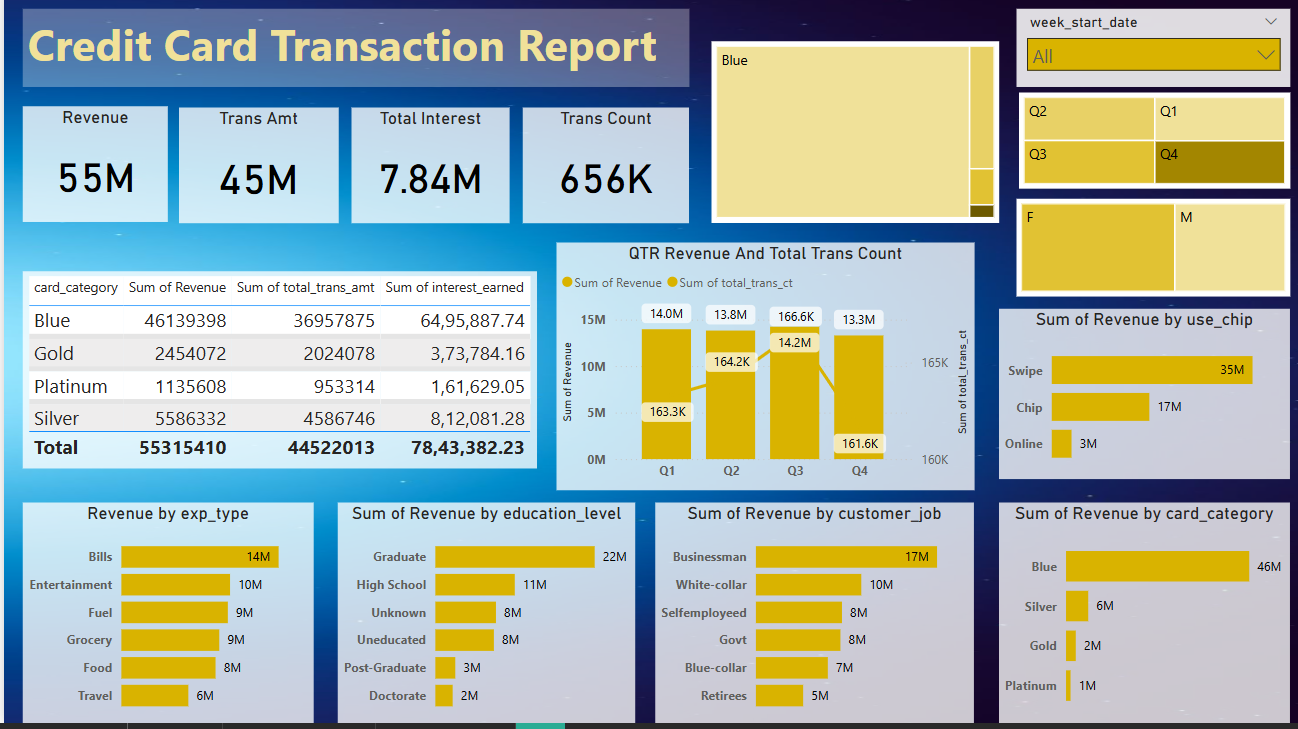

The dashboard page shown, as its layout file describes it:
{"tool":"powerbi","page":{"name":"CC_Transaction","canvas":[1280,720],"ordinal":1},"visuals":[{"type":"textbox","box":[17.8,17.8,654.5,76.8],"z":0},{"type":"lineStackedColumnComboChart","title":"QTR Revenue And Total Trans Count","fields":{"Category":["public cc_detail.qtr"],"Y":["Sum(public cc_detail.Revenue)"],"Y2":["Sum(public cc_detail.total_trans_ct)"]},"box":[542,248.4,410.3,242.9],"z":1000},{"type":"barChart","title":" Revenue by exp_type","fields":{"Category":["public cc_detail.exp_type"],"Y":["Sum(public cc_detail.Revenue)"]},"box":[17.8,503.6,285.4,216.8],"z":2000},{"type":"barChart","fields":{"Category":["public cust_detail.education_level"],"Y":["Sum(public cc_detail.Revenue)"]},"box":[328,503.6,292.3,216.8],"z":3000},{"type":"barChart","fields":{"Y":["Sum(public cc_detail.Revenue)"],"Category":["public cust_detail.customer_job"]},"box":[639.5,503.6,312.9,216.8],"z":4000},{"type":"barChart","fields":{"Category":["public cc_detail.card_category"],"Y":["Sum(public cc_detail.Revenue)"]},"box":[977,503.6,285.4,216.8],"z":5000},{"type":"barChart","fields":{"Category":["public cc_detail.use_chip"],"Y":["Sum(public cc_detail.Revenue)"]},"box":[977,312.9,285.4,167.4],"z":6000},{"type":"tableEx","fields":{"Values":["public cc_detail.card_category","Sum(public cc_detail.Revenue)","Sum(public cc_detail.total_trans_amt)","Sum(public cc_detail.interest_earned)"]},"box":[17.8,275.8,505,193.5],"z":7000},{"type":"card","title":"Revenue","fields":{"Values":["Sum(public cc_detail.Revenue)"]},"box":[17.8,113.9,142.7,113.9],"z":8000},{"type":"card","title":"Trans Amt","fields":{"Values":["Sum(public cc_detail.total_trans_amt)"]},"box":[171.5,115.3,156.4,113.9],"z":9000},{"type":"card","title":"Total Interest","fields":{"Values":["Sum(public cc_detail.interest_earned)"]},"box":[341.7,115.3,155.1,113.9],"z":10000},{"type":"card","title":"Trans Count","fields":{"Values":["Sum(public cc_detail.total_trans_ct)"]},"box":[509.1,115.3,163.3,113.9],"z":11000},{"type":"slicer","fields":{"Values":["public cc_detail.week_start_date"]},"box":[993.5,17.8,269,76.8],"z":12000},{"type":"treemap","fields":{"Group":["public cc_detail.qtr"],"Values":["CountNonNull(public cc_detail.client_num)"]},"box":[996.2,100.2,266.2,94.7],"z":13000},{"type":"treemap","fields":{"Group":["public cust_detail.gender"],"Values":["CountNonNull(public cust_detail.client_num)"]},"box":[993.5,204.5,269,96.1],"z":14000},{"type":"treemap","fields":{"Group":["public cc_detail.card_category"],"Values":["CountNonNull(public cust_detail.client_num)"]},"box":[694.3,50.8,282.7,178.4],"z":15000}]}

Visuals, with their boxes in screenshot pixels (x1, y1, x2, y2), scaled from the page's 1280x720 canvas onto the 1298x729 screenshot:
textbox: <box>18,18,682,96</box>
"QTR Revenue And Total Trans Count" lineStackedColumnComboChart: <box>550,252,966,497</box>
" Revenue by exp_type" barChart: <box>18,510,307,728</box>
barChart - public cust_detail.education_level x Sum(public cc_detail.Revenue): <box>333,510,629,728</box>
barChart - Sum(public cc_detail.Revenue) x public cust_detail.customer_job: <box>648,510,966,728</box>
barChart - public cc_detail.card_category x Sum(public cc_detail.Revenue): <box>991,510,1280,728</box>
barChart - public cc_detail.use_chip x Sum(public cc_detail.Revenue): <box>991,317,1280,486</box>
tableEx - public cc_detail.card_category x Sum(public cc_detail.Revenue): <box>18,279,530,475</box>
"Revenue" card: <box>18,115,163,231</box>
"Trans Amt" card: <box>174,117,333,232</box>
"Total Interest" card: <box>347,117,504,232</box>
"Trans Count" card: <box>516,117,682,232</box>
slicer - public cc_detail.week_start_date: <box>1007,18,1280,96</box>
treemap - public cc_detail.qtr x CountNonNull(public cc_detail.client_num): <box>1010,101,1280,197</box>
treemap - public cust_detail.gender x CountNonNull(public cust_detail.client_num): <box>1007,207,1280,304</box>
treemap - public cc_detail.card_category x CountNonNull(public cust_detail.client_num): <box>704,51,991,232</box>
